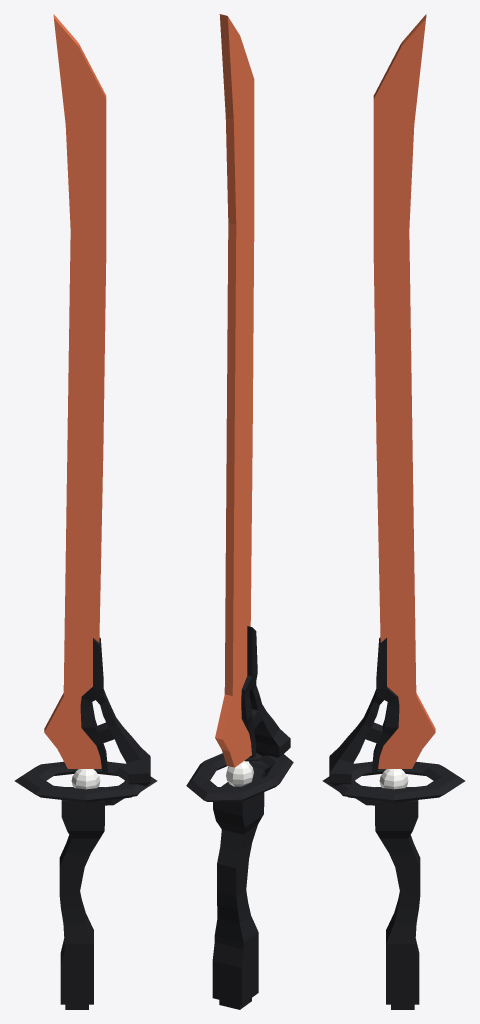
File: millennium_blade.fbx
3 renders of one model, left to right at view 1: azimuth 90°, elevation 25°; view 2: azimuth 150°, elevation 25°; view 3: azimuth 270°, elevation 25°, orthographic.
Visible parts, largest first — view 1: Blade, Handle, Guard, Core; view 2: Blade, Handle, Guard, Core; view 3: Blade, Handle, Guard, Core.
Part boxes in pixels (<box>): Blade: <box>44,14,106,768</box>; Handle: <box>59,637,150,1009</box>; Guard: <box>14,761,157,802</box>; Core: <box>71,769,100,789</box>; Blade: <box>215,14,254,767</box>; Handle: <box>212,626,290,1009</box>; Guard: <box>186,752,293,801</box>; Core: <box>226,761,253,786</box>; Blade: <box>373,14,435,768</box>; Handle: <box>329,637,420,1009</box>; Guard: <box>322,761,465,802</box>; Core: <box>379,769,408,789</box>.
Size of the model in its own units: 36 by 429 by 56.43.
